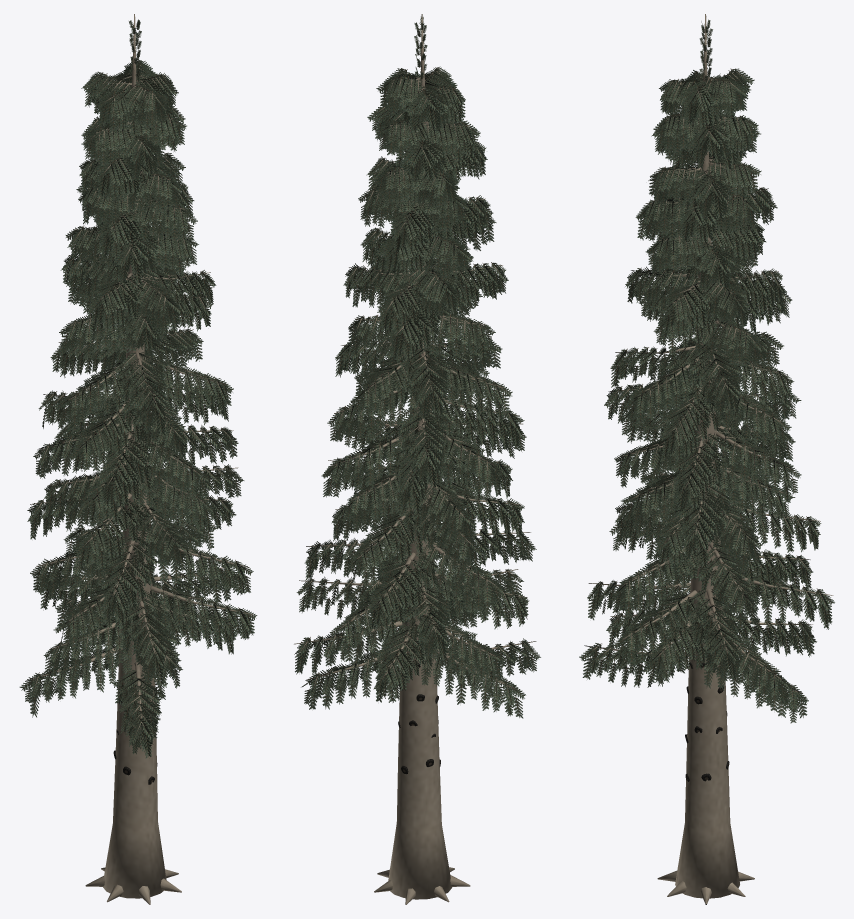
The model's file is Sitka_Mature_01_LowPruned_Healed_LOD0.fbx.
The picture shows the model from 3 angles, left to right: view 1: azimuth 30°, elevation 25°; view 2: azimuth 150°, elevation 25°; view 3: azimuth 270°, elevation 25°; orthographic projection.
Parts seen in each view (by area): view 1: Sitka_Mature_01_LowPruned_Healed_LOD0; view 2: Sitka_Mature_01_LowPruned_Healed_LOD0; view 3: Sitka_Mature_01_LowPruned_Healed_LOD0.
Part boxes in pixels (x1,y1,x2,y2): Sitka_Mature_01_LowPruned_Healed_LOD0: (19, 14, 257, 904); Sitka_Mature_01_LowPruned_Healed_LOD0: (294, 14, 540, 904); Sitka_Mature_01_LowPruned_Healed_LOD0: (579, 14, 834, 904).
Bounding box in the file's own units: 759 × 2801 × 775.
3 materials, 3 textured.
